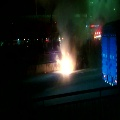fire: (58, 56, 73, 74)
